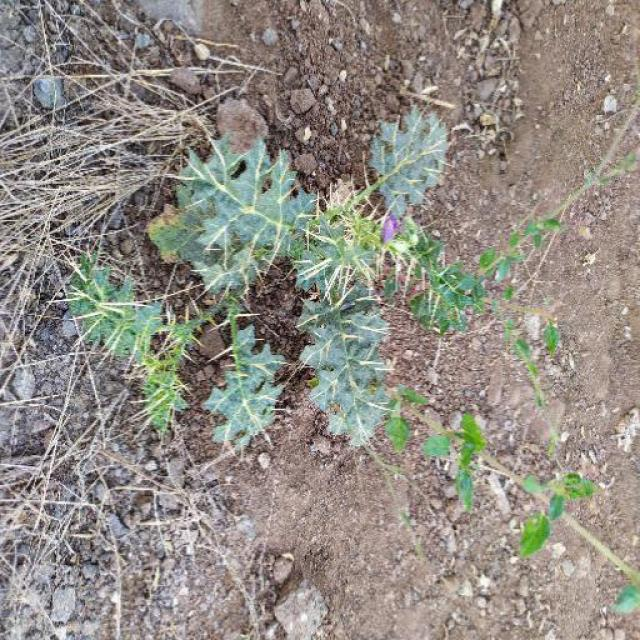weed: (76, 100, 484, 464)
